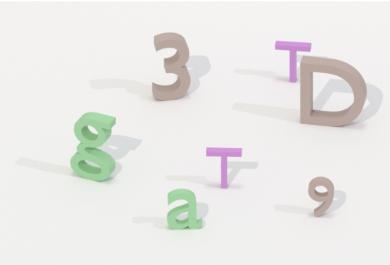3: (146, 29, 194, 105)
9: (305, 174, 339, 224)
D: (298, 53, 369, 130)
T: (201, 143, 249, 191)
a: (162, 183, 205, 234)
g: (69, 107, 118, 187)
